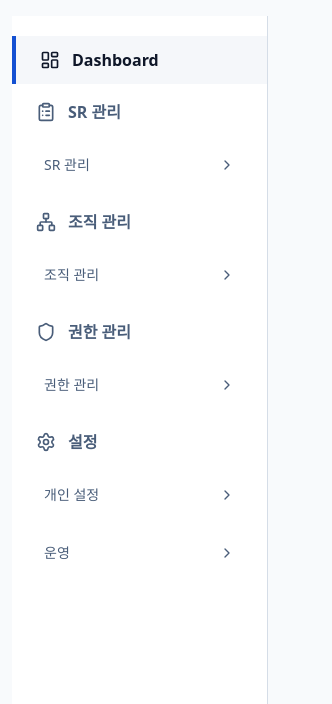
Sidebar - showAllSections: 역할별 상위 메뉴 › 접힌 섹션은 열면 하위 메뉴가 나타난다
The width and height of the screenshot is (332, 704).
Expected: the link "프로필" is not shown
Click the button "개인 설정" at coordinates (140, 495), box [12, 470, 267, 520]
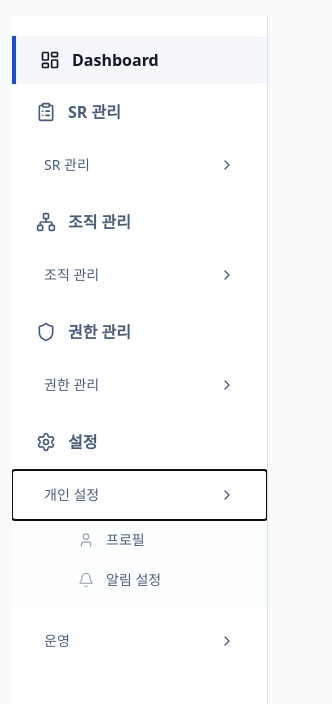
Result: the link "프로필" is shown at [78, 530, 145, 549]
